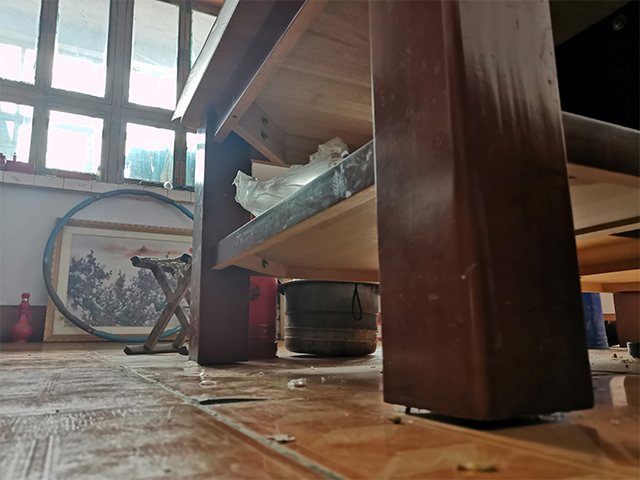stool: (121, 251, 192, 357)
table: (169, 1, 639, 430)
